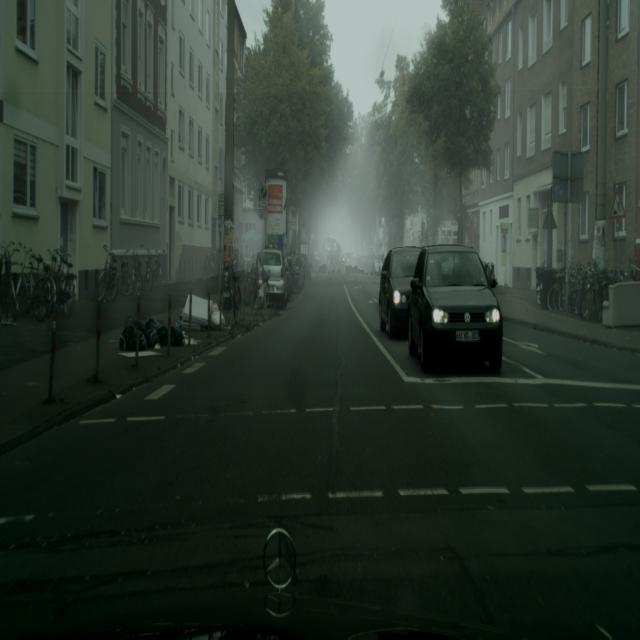car: (13, 245, 54, 320), (46, 241, 78, 316), (547, 262, 581, 312), (97, 244, 119, 302)
truck: (407, 244, 503, 374), (378, 246, 421, 339), (256, 248, 290, 310), (290, 254, 305, 289), (301, 254, 312, 281), (349, 255, 363, 270)
